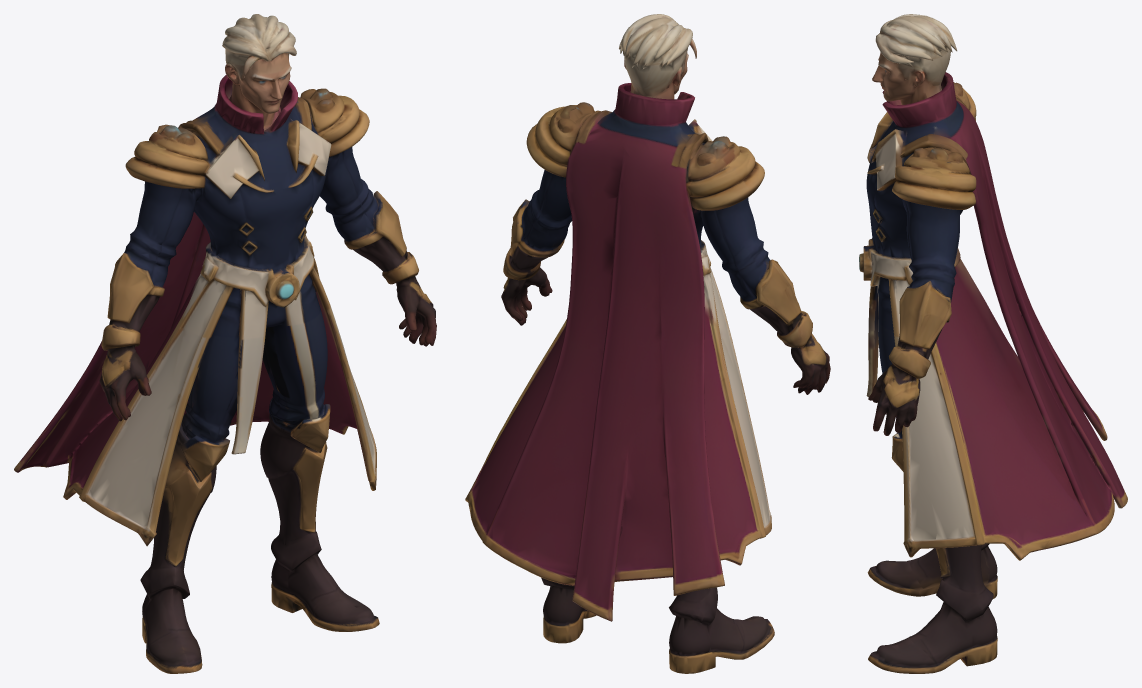
The model's file is arsenaldo-submitted-20261018.glb.
3 renders of one model, left to right at view 1: azimuth 30°, elevation 25°; view 2: azimuth 150°, elevation 25°; view 3: azimuth 270°, elevation 25°, orthographic. The views are drawn at different scales.
Parts seen in each view (by area): view 1: node_0; view 2: node_0; view 3: node_0.
Boxes of the visible parts, x1,y1,x2,y2 form: node_0: (14, 14, 436, 673); node_0: (465, 14, 830, 673); node_0: (859, 14, 1127, 673).
Bounding box in the file's own units: 0.6027 × 1.1 × 0.439.
Materials: 1 (1 with a texture image).
